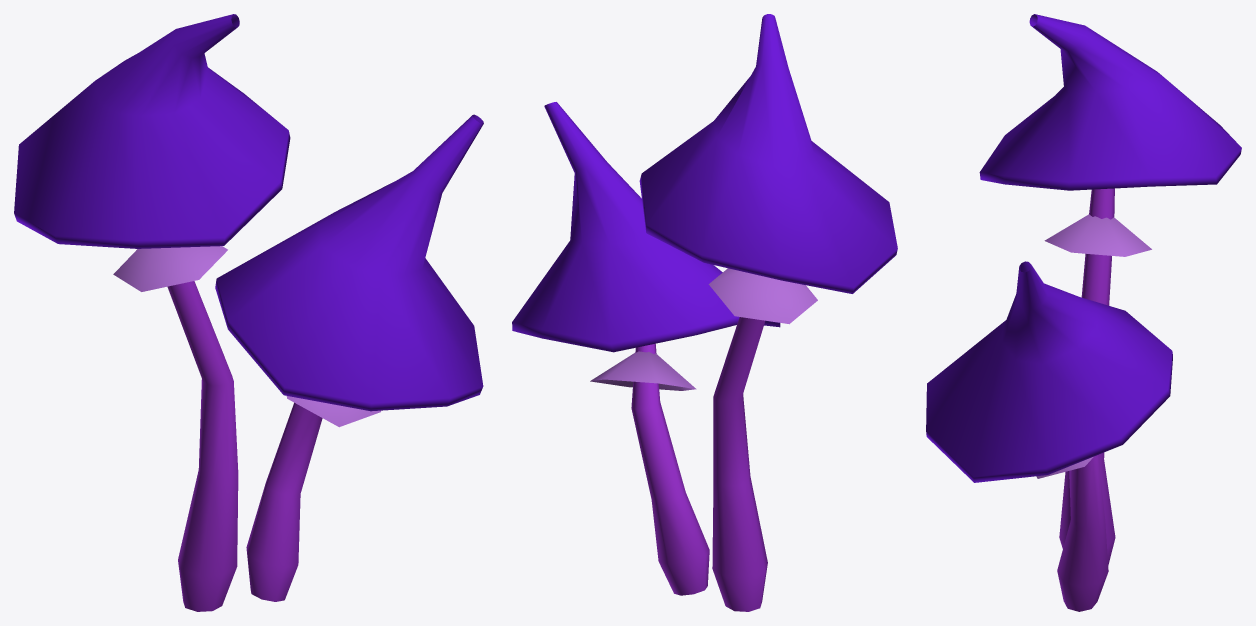
Rendered from Mushrooms4.fbx.
3 renders of one model, left to right at view 1: azimuth 30°, elevation 25°; view 2: azimuth 150°, elevation 25°; view 3: azimuth 270°, elevation 25°, orthographic. The views are drawn at different scales.
Visible parts, largest first — view 1: Circle.009; view 2: Circle.009; view 3: Circle.009.
Boxes of the visible parts, x1=… form: Circle.009: x1=14, y1=14, x2=483, y2=611; Circle.009: x1=512, y1=14, x2=897, y2=611; Circle.009: x1=926, y1=14, x2=1241, y2=611.
Size of the model in its own units: 0.9375 by 1.37 by 0.693.
